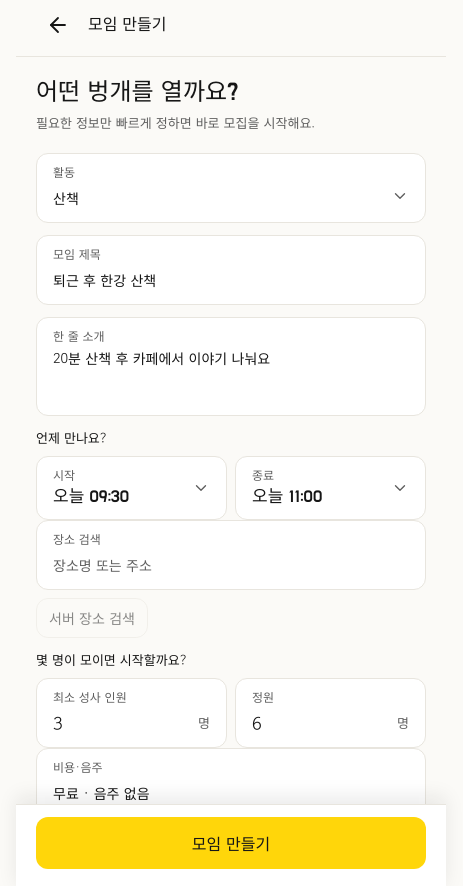
NewMeetupPage authenticated place and creation regressions › shows a provider search problem and retries the explicit search
In the field labelled "장소 검색": (231, 565) [53,551,409,579], type "한강"
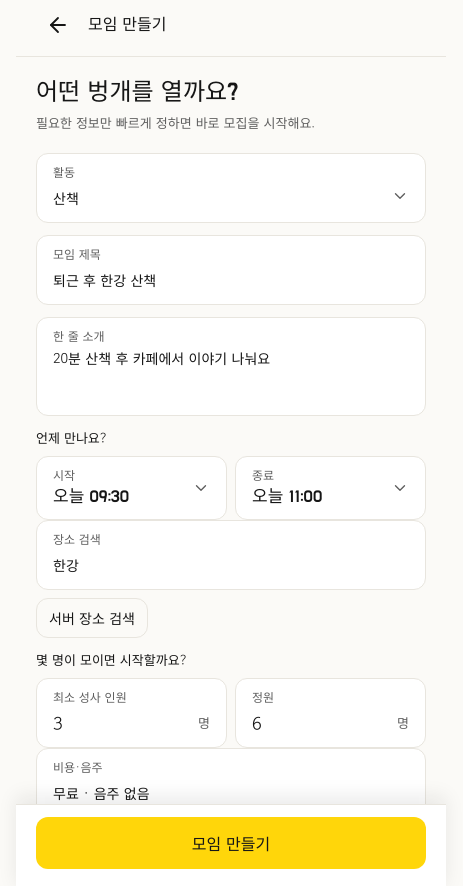
Click the button "서버 장소 검색": (92, 618) [36,598,148,638]
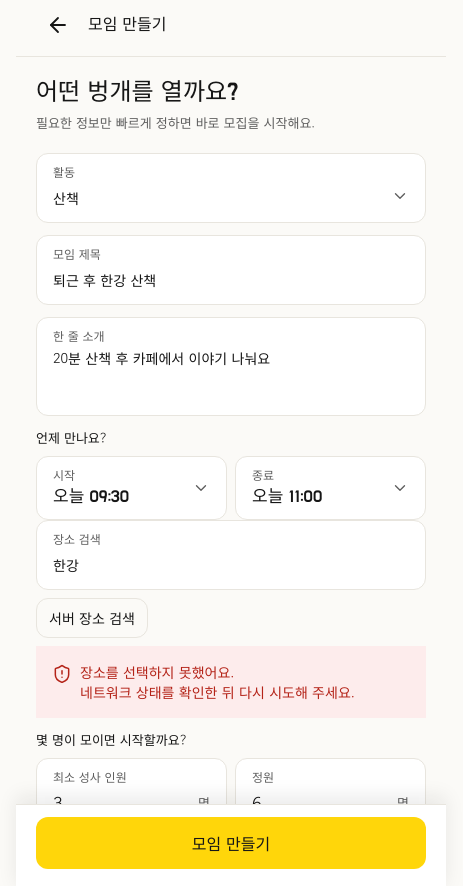
Expected: the message shows "네트워크 상태를 확인한 뒤 다시 시도해 주세요.", [80,682,355,702]
Click the button "서버 장소 검색": (92, 618) [36,598,148,638]
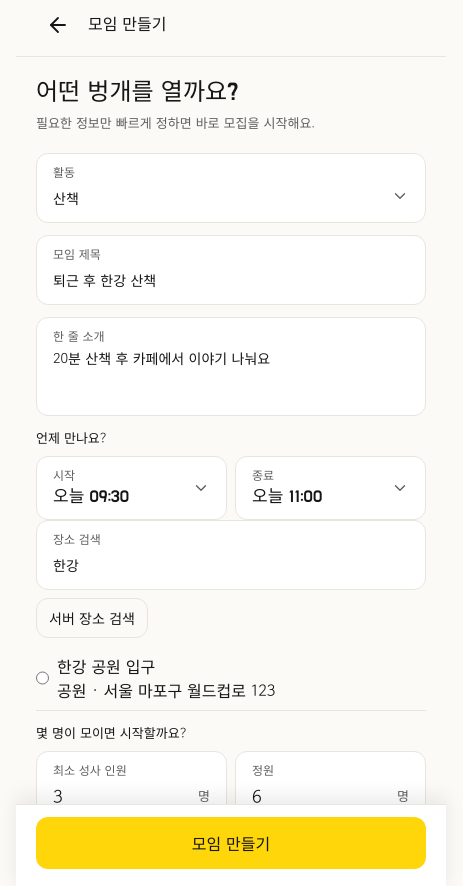
Expected: the radio button labelled "한강 공원 입구" is shown, [36,654,49,702]
